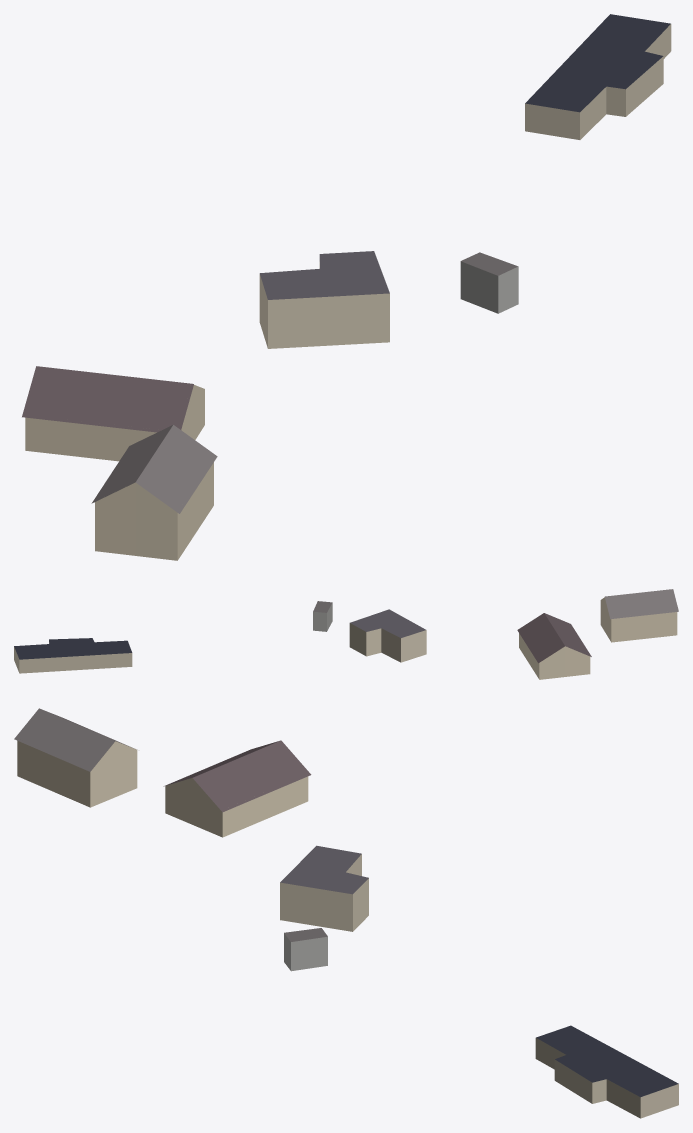
3 renders of one model, top to bottom at view 1: azimuth 30°, elevation 25°; view 2: azimuth 150°, elevation 25°; view 3: azimuth 270°, elevation 25°, orthographic. The views are drawn at different scales.
Visible parts, largest first — view 1: tuile; view 2: tuile; view 3: tuile.
Part boxes in pixels (bbox=[...]): tuile: bbox=[22, 14, 671, 560]; tuile: bbox=[14, 589, 678, 679]; tuile: bbox=[14, 708, 678, 1118].
Size of the model in its own units: 130 by 10.64 by 102.
